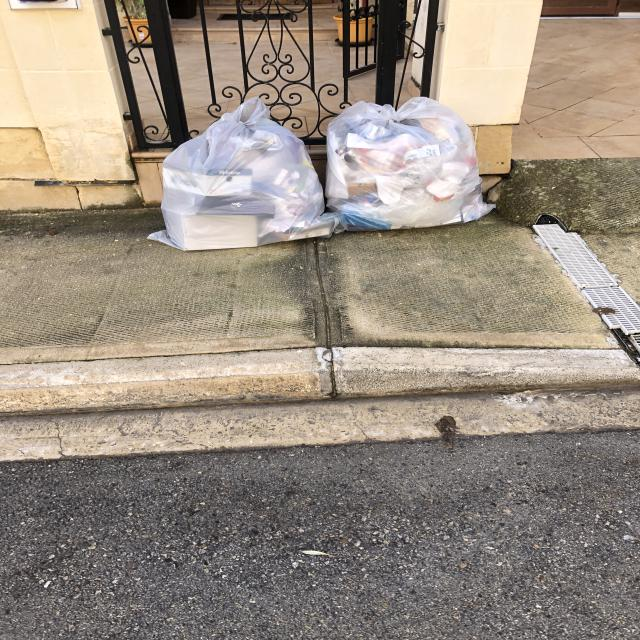Recycled Waste -Grey or Green Bag-: (147, 98, 341, 252), (327, 98, 498, 235)
